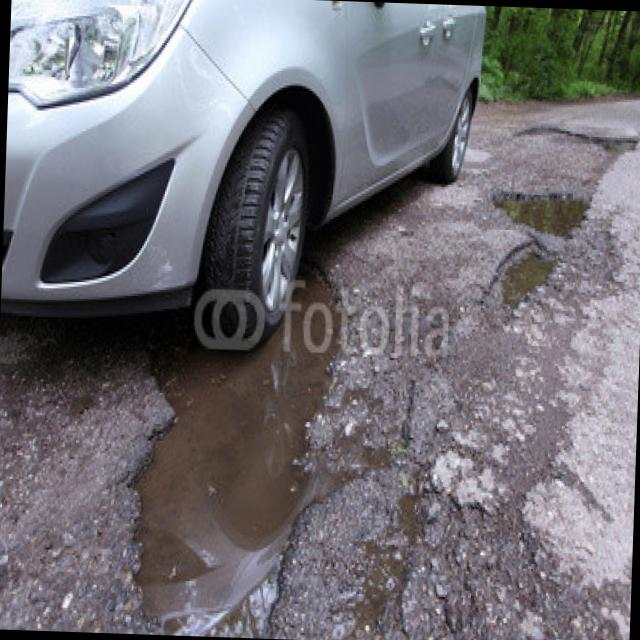Potholes: (81, 291, 335, 640), (484, 219, 579, 341), (484, 162, 598, 262), (530, 105, 640, 162)
